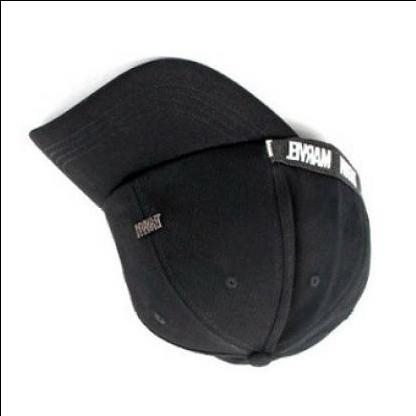cap: (21, 56, 374, 374)
